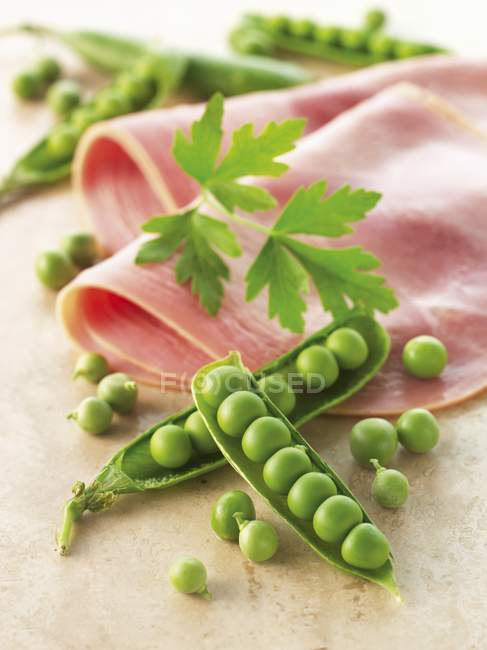boiled peas: (221, 367, 368, 560)
